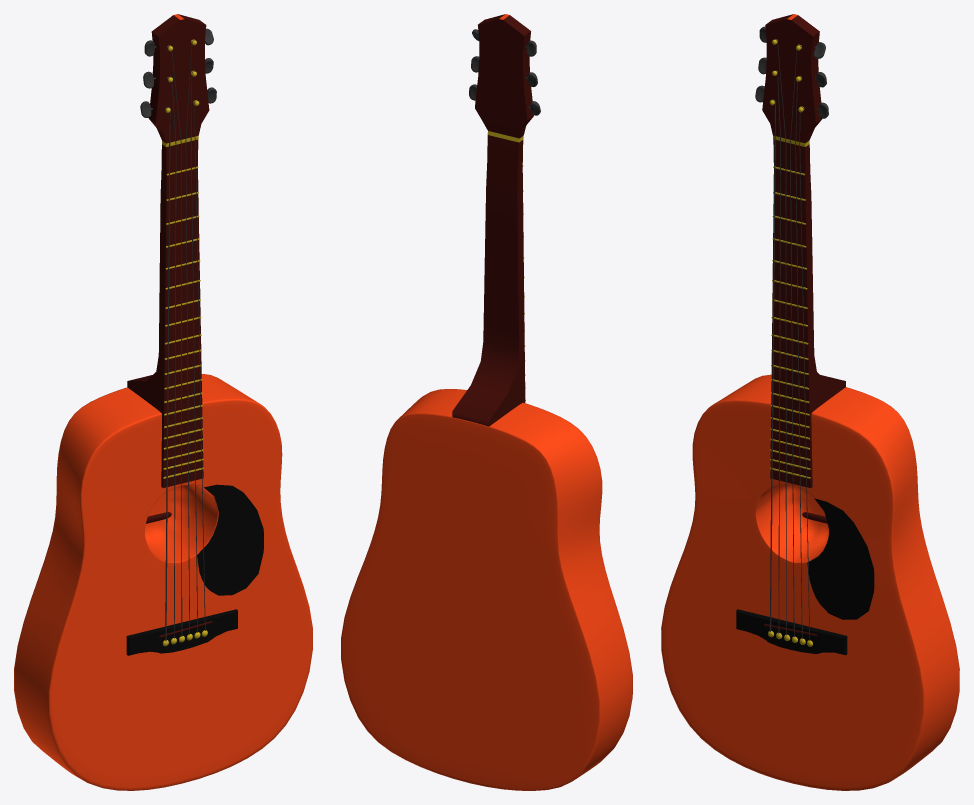
File: guitar.fbx
3 renders of one model, left to right at view 1: azimuth 30°, elevation 25°; view 2: azimuth 150°, elevation 25°; view 3: azimuth 330°, elevation 25°, orthographic. The views are drawn at different scales.
Visible parts, largest first — view 1: guitar (×5); view 2: guitar (×3); view 3: guitar (×5).
Part boxes in pixels (box(x1,y1,x2,y2)): guitar (×5): box(14, 14, 312, 790); guitar (×3): box(341, 14, 632, 790); guitar (×5): box(661, 14, 959, 790).
Bounding box in the file's own units: 35.02 × 96.66 × 9.18.
